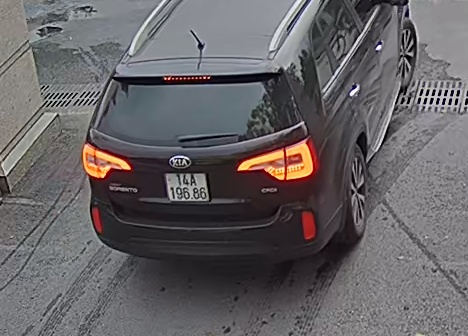vehicle plate: (164, 170, 210, 203)
